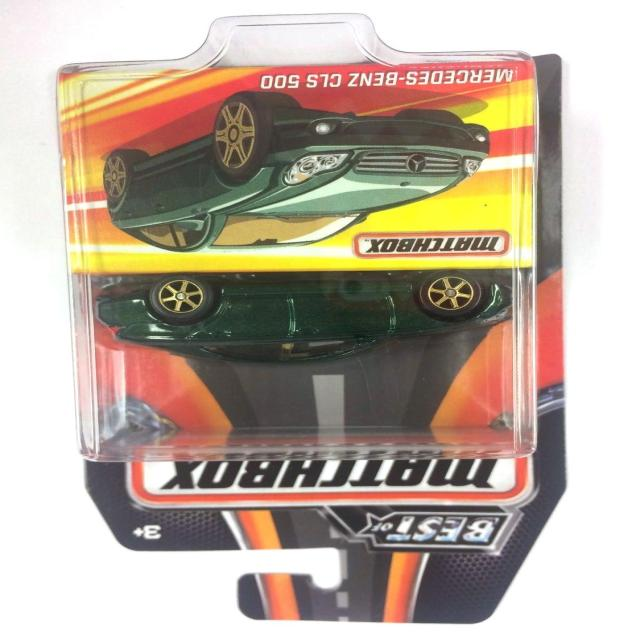Car: (102, 90, 491, 254), (95, 269, 514, 367)
